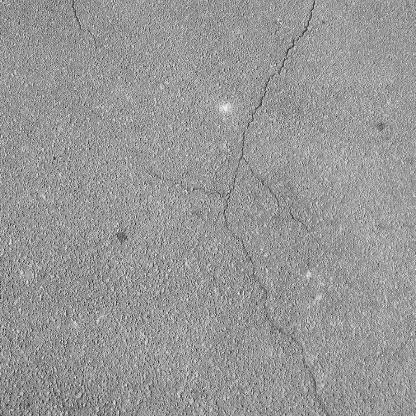Cracks: (150, 0, 337, 416), (69, 0, 104, 52)
